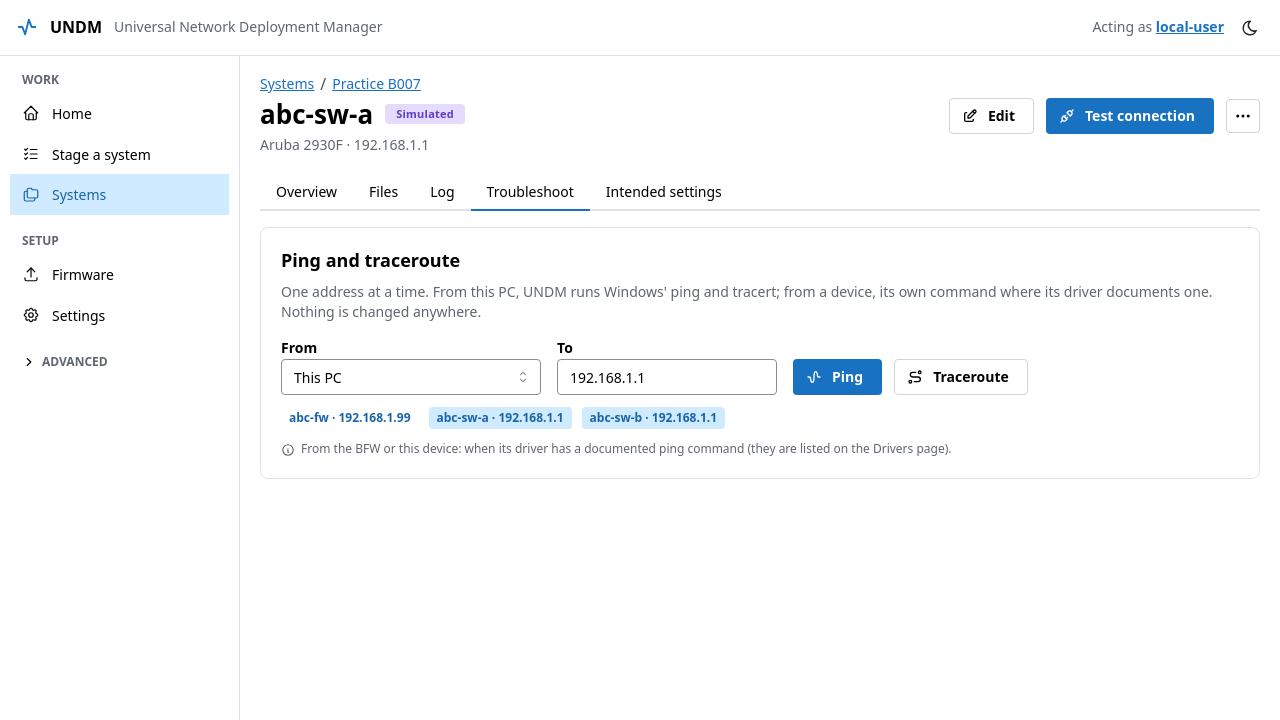
Test: troubleshooting (D-128) › the hop table names a hop device, and candidates when two share an address
The width and height of the screenshot is (1280, 720).
Check: the heading "Ping and traceroute" is shown, box [281,248,460,272]
Check: the field labelled "To" holds "192.168.1.1", box [557,360,777,396]
Click the button "Traceroute".
click(961, 378)  # box [894,360,1028,396]
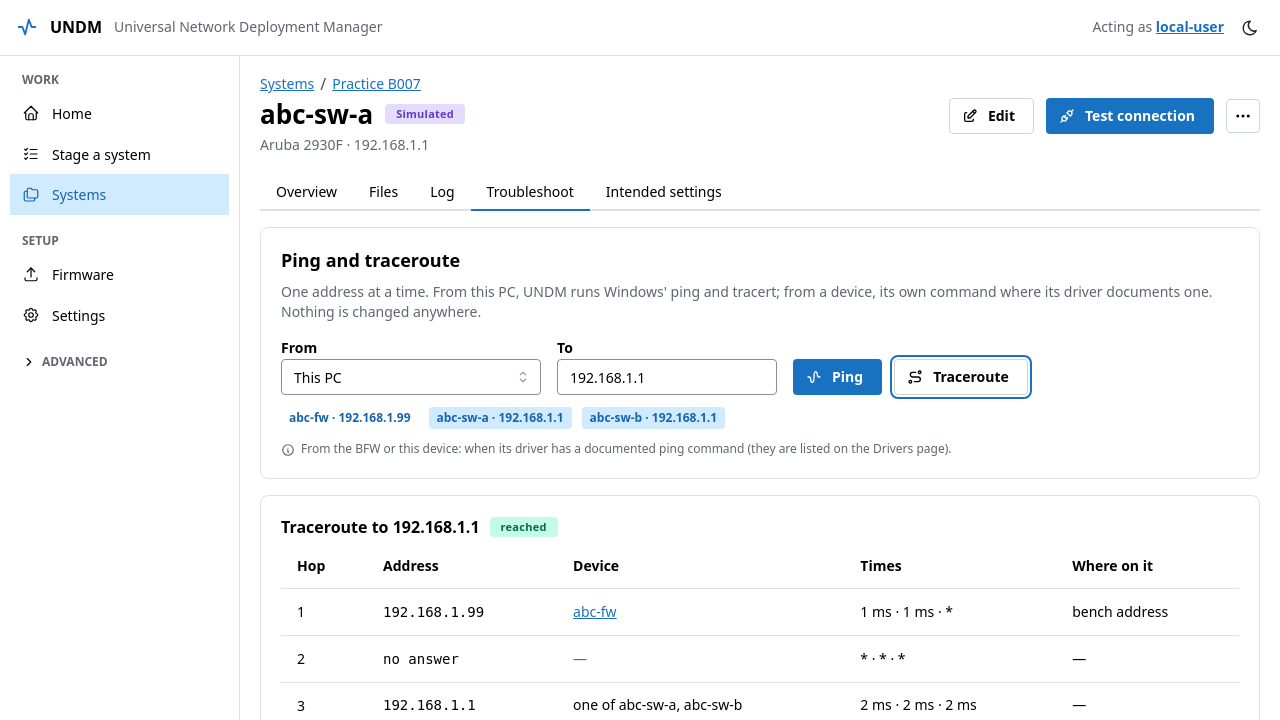
Check: the link "abc-fw" is shown, box [573,602,617,621]
Check: the text "no answer" is shown, box [383,651,459,667]
Check: the text "one of abc-sw-a, abc-sw-b" is shown, box [573,695,742,714]
